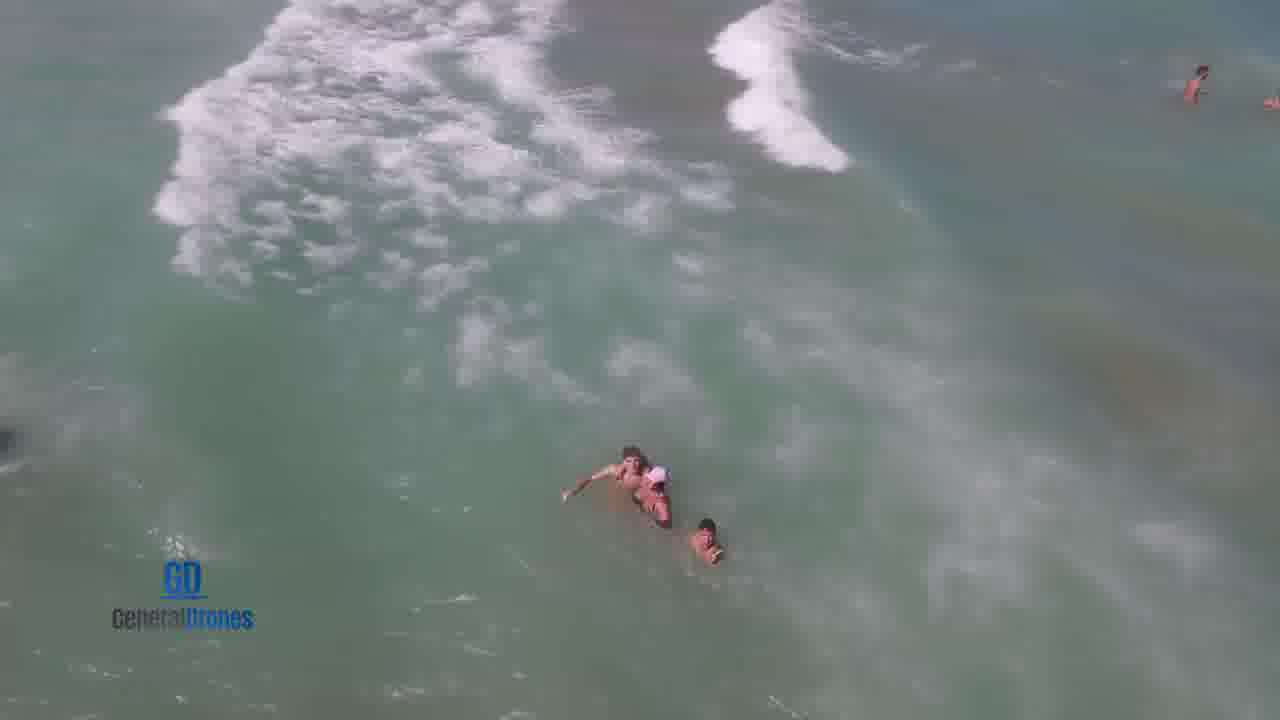swimmer: (560, 443, 672, 521), (681, 503, 737, 574)
